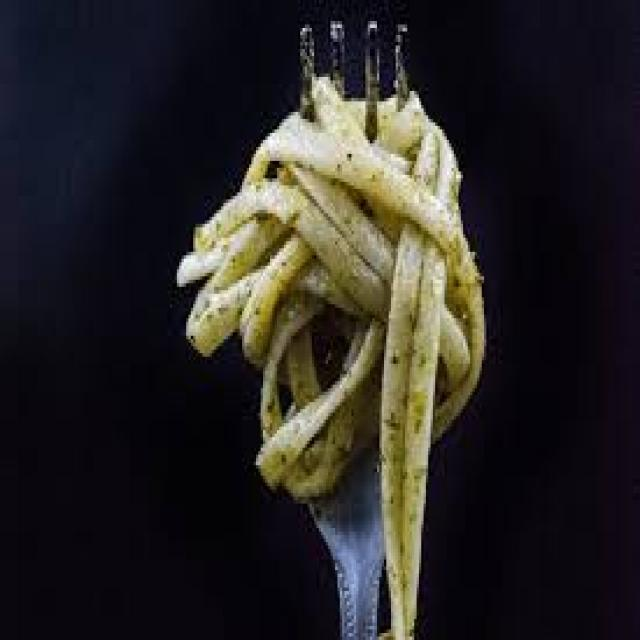organic waste: (240, 112, 477, 304), (172, 175, 391, 353), (384, 116, 445, 636), (249, 307, 379, 503), (235, 227, 377, 364), (428, 200, 482, 430), (319, 70, 430, 150), (256, 294, 319, 412)
